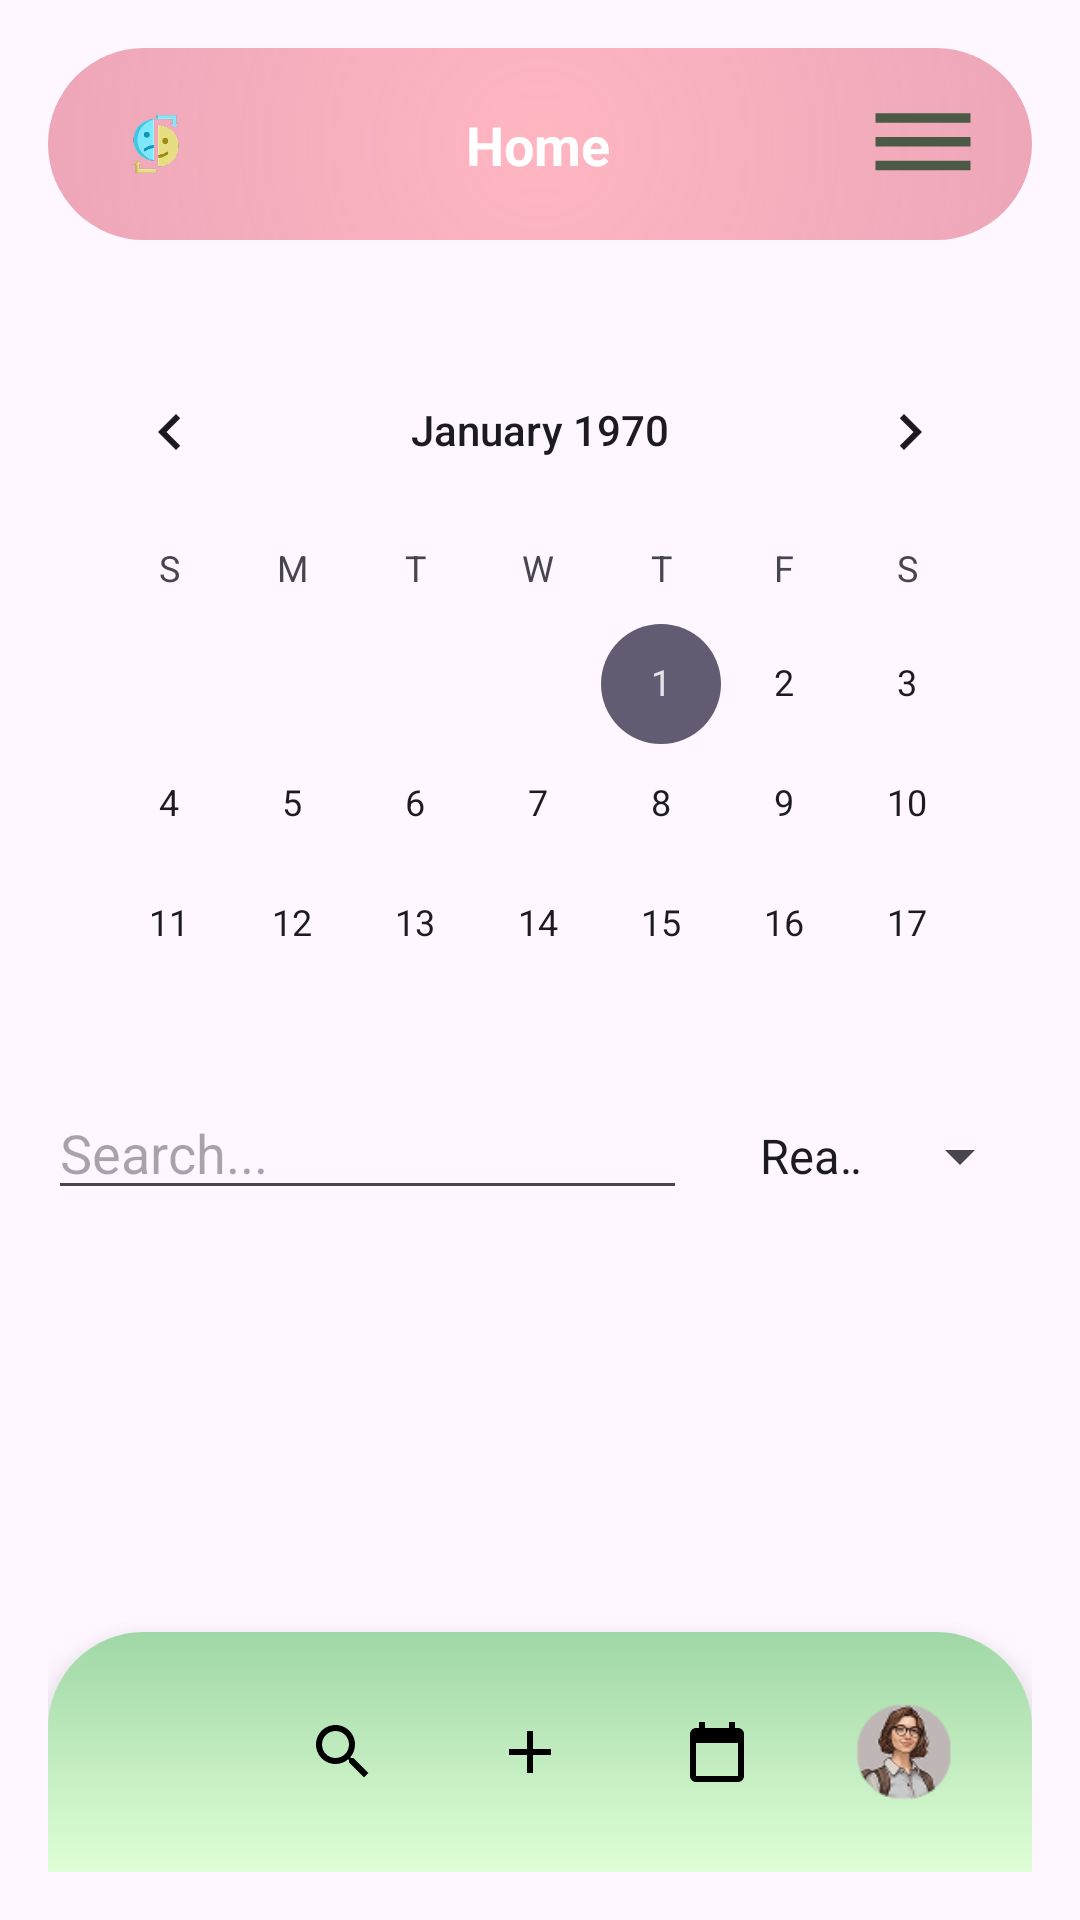

Point at icon controls on the screen. Image size 1080w x 1920h, points as (x,y).
menu: (923,142)
